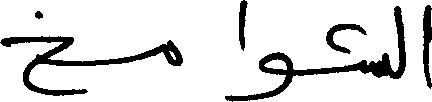X: (0, 6, 72, 100), (317, 19, 388, 82), (259, 47, 293, 101), (422, 0, 431, 101), (394, 1, 405, 83), (238, 0, 245, 101), (164, 35, 181, 70)
